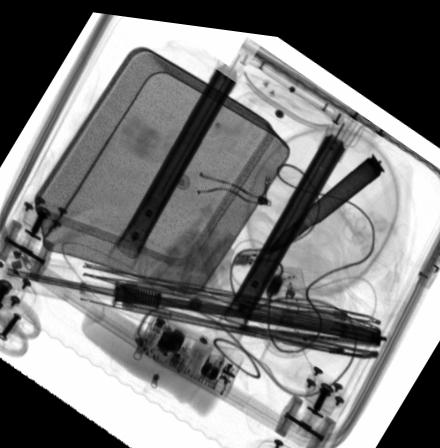Bullet: (264, 143, 385, 247)
